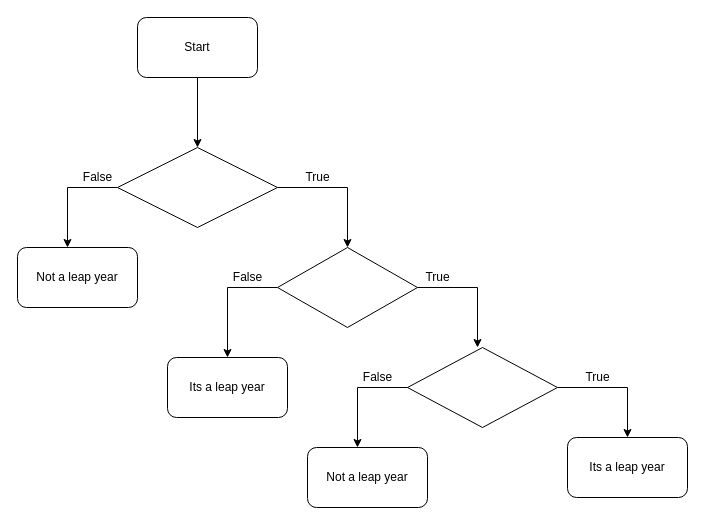
The diagram is 705 pixels wide and 525 high, and some of its shapes have lost their labels. Each missing label, with the centre of its shape:
"if year is divisibel by 100" belongs at (x=347, y=287).
"if year is divisible by 4" belongs at (x=197, y=187).
"If year is divisible by 400" belongs at (x=482, y=387).
